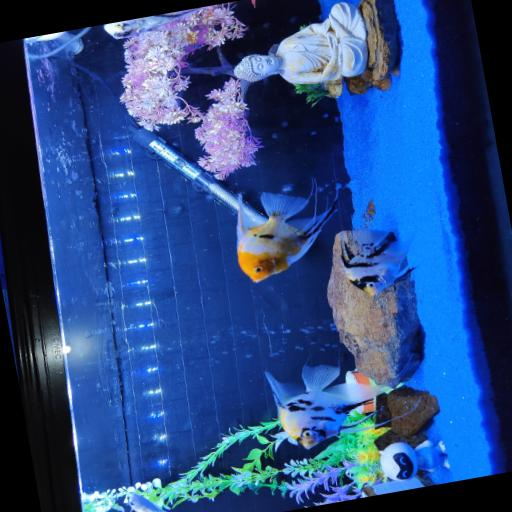Fish: (266, 364, 390, 447), (237, 192, 337, 281), (342, 229, 415, 294), (104, 7, 203, 37), (128, 493, 166, 511)
